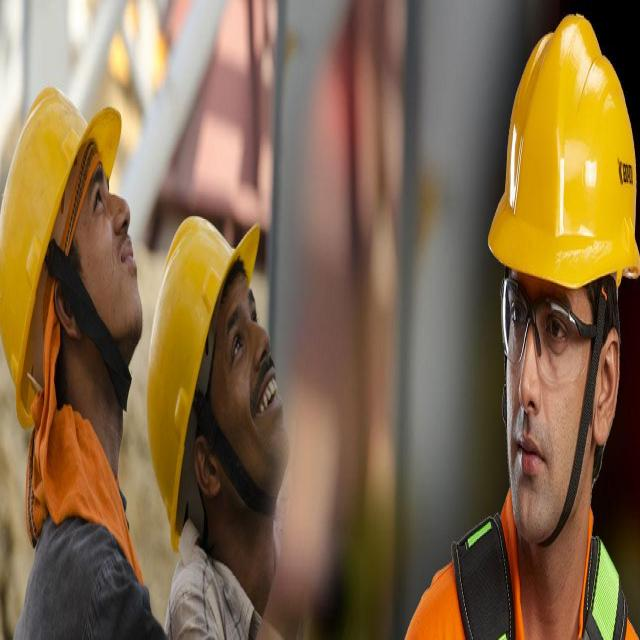Reflective-Jacket: (408, 509, 632, 640)
Safety-Helmet: (488, 11, 639, 300), (0, 78, 124, 421), (140, 200, 262, 544)
